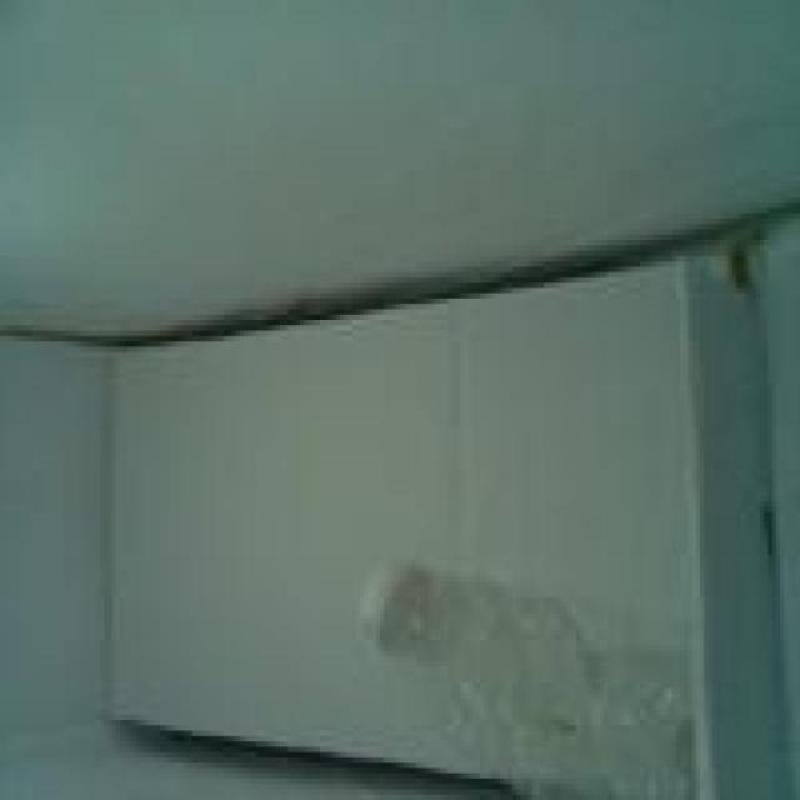botella: (356, 565, 704, 800)
